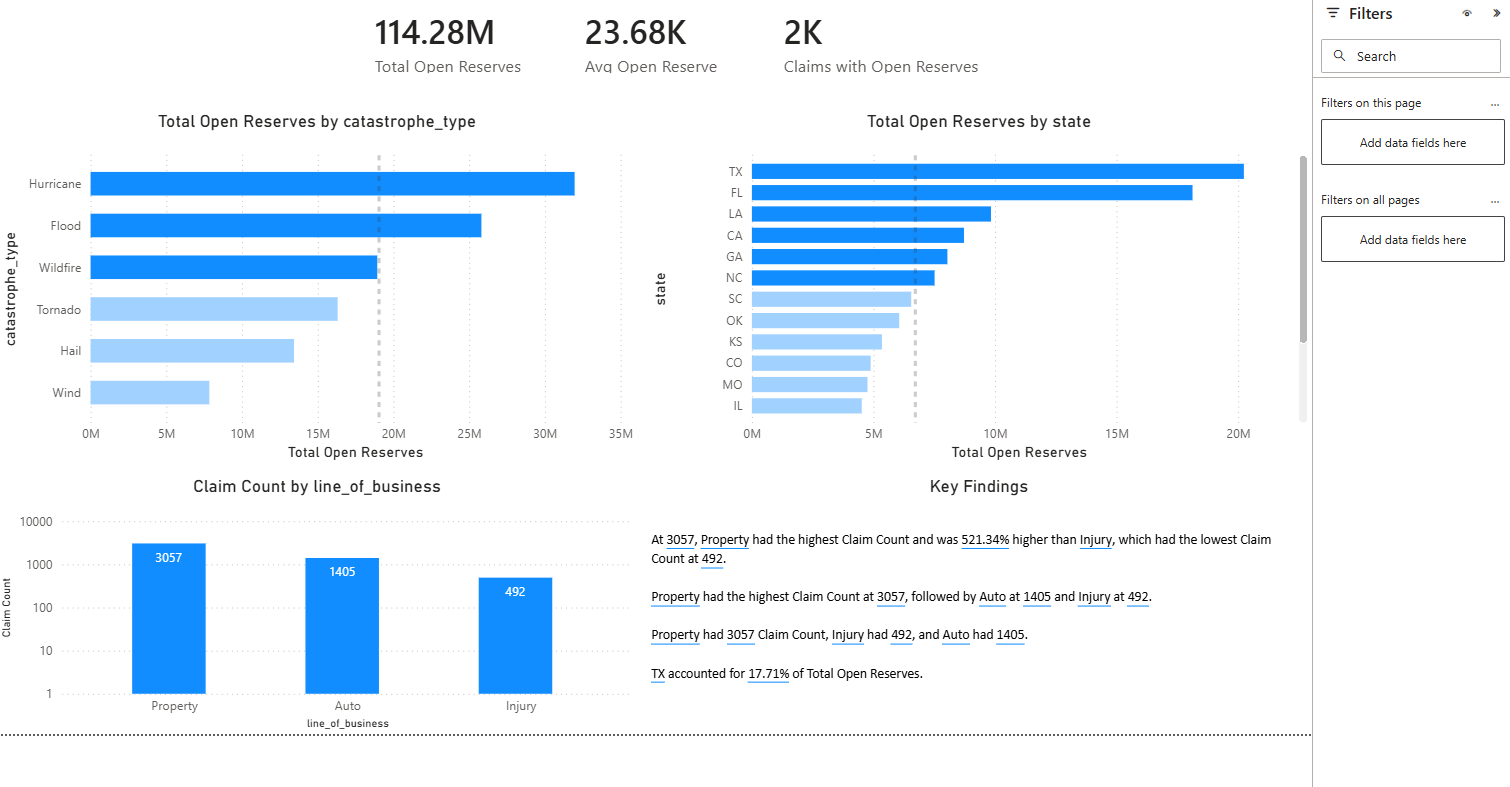

What the dashboard file says about the page in this screenshot:
{"tool":"powerbi","page":{"name":"Reserve Pressure","canvas":[1280,720],"ordinal":0},"visuals":[{"type":"cardVisual","fields":{"Data":["cat_claim_profile_final.Escalation Rate"]},"box":[0,625.8,231.5,94.2],"z":0},{"type":"cardVisual","fields":{"Data":["cat_claim_profile_final.Litigation Rate"]},"box":[0,625.8,205.3,94.2],"z":1000},{"type":"cardVisual","fields":{"Data":["cat_claim_profile_final.Average Reserve"]},"box":[543.4,0,193.4,94.2],"z":2000},{"type":"cardVisual","fields":{"Data":["cat_claim_profile_final.Total Reserves"]},"box":[339.4,0,204,94.2],"z":3000},{"type":"cardVisual","fields":{"Data":["cat_claim_profile_final.Open Reserve Claims"]},"box":[736.8,0,256.4,94.2],"z":5000},{"type":"clusteredBarChart","fields":{"Y":["cat_claim_profile_final.Total Open Reserves","select"],"Category":["cat_claim_profile_final.catastrophe_type"]},"box":[0,113.6,624.5,345],"z":6000},{"type":"clusteredBarChart","fields":{"Y":["cat_claim_profile_final.Total Open Reserves"],"Category":["cat_claim_profile_final.state"]},"box":[632,113.6,648.2,345],"z":7000},{"type":"columnChart","fields":{"Y":["cat_claim_profile_final.Claim Count"],"Category":["cat_claim_profile_final.line_of_business"]},"box":[0,469.2,624.5,250.8],"z":8000},{"type":"textbox","title":"Key Findings","box":[632.2,468.8,647.8,250.9],"z":9000}]}

Visuals, with their boxes on the page's 1280x720 design canvas (x1, y1, x2, y2). These are canvas units, not pixel positions in the 1510x787 screenshot, which may show the page scaled, cropped or inside an application window:
cardVisual - cat_claim_profile_final.Escalation Rate: select_region(0, 626, 232, 720)
cardVisual - cat_claim_profile_final.Litigation Rate: select_region(0, 626, 205, 720)
cardVisual - cat_claim_profile_final.Average Reserve: select_region(543, 0, 737, 94)
cardVisual - cat_claim_profile_final.Total Reserves: select_region(339, 0, 543, 94)
cardVisual - cat_claim_profile_final.Open Reserve Claims: select_region(737, 0, 993, 94)
clusteredBarChart - cat_claim_profile_final.Total Open Reserves x select: select_region(0, 114, 624, 459)
clusteredBarChart - cat_claim_profile_final.Total Open Reserves x cat_claim_profile_final.state: select_region(632, 114, 1280, 459)
columnChart - cat_claim_profile_final.Claim Count x cat_claim_profile_final.line_of_business: select_region(0, 469, 624, 720)
"Key Findings" textbox: select_region(632, 469, 1280, 720)
